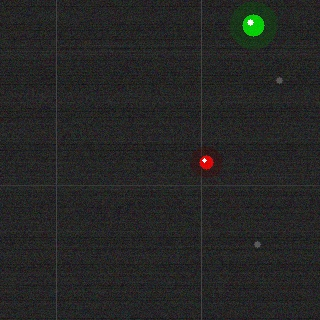green_normal: (240, 12, 266, 38)
red_fault: (197, 153, 215, 171)
